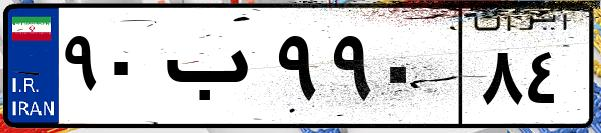0: (385, 28, 445, 110), (110, 28, 158, 98)
4: (525, 38, 570, 115)
8: (475, 38, 525, 113)
9: (270, 28, 330, 110), (330, 28, 385, 110), (57, 26, 110, 100)
ب: (158, 20, 270, 120)
